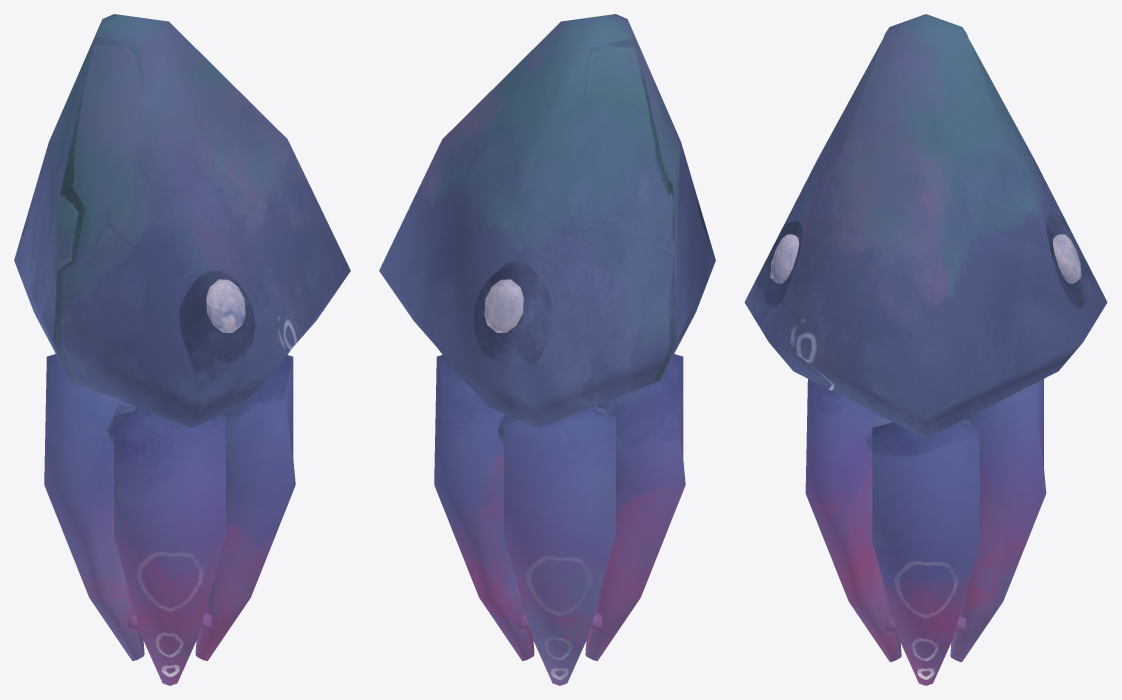
The model's file is enemy01.glb.
3 renders of one model, left to right at view 1: azimuth 30°, elevation 25°; view 2: azimuth 150°, elevation 25°; view 3: azimuth 270°, elevation 25°, orthographic. The views are drawn at different scales.
Visible parts, largest first — view 1: Cube.004; view 2: Cube.004; view 3: Cube.004.
Boxes of the visible parts, x1=… form: Cube.004: x1=14, y1=14, x2=350, y2=685; Cube.004: x1=379, y1=14, x2=715, y2=685; Cube.004: x1=744, y1=14, x2=1107, y2=685.
Bounding box in the file's own units: 9.74 × 20.79 × 10.79.
Materials: 1 (1 with a texture image).
